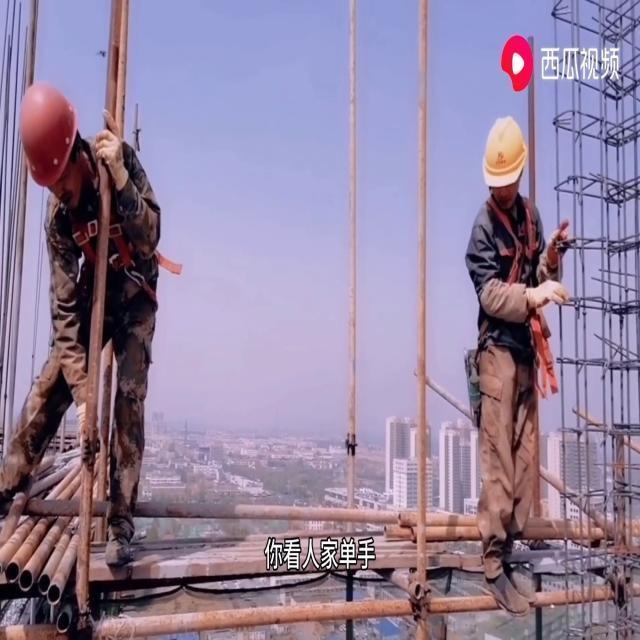Arnes_seguridad: (43, 137, 167, 291), (471, 187, 553, 340)
